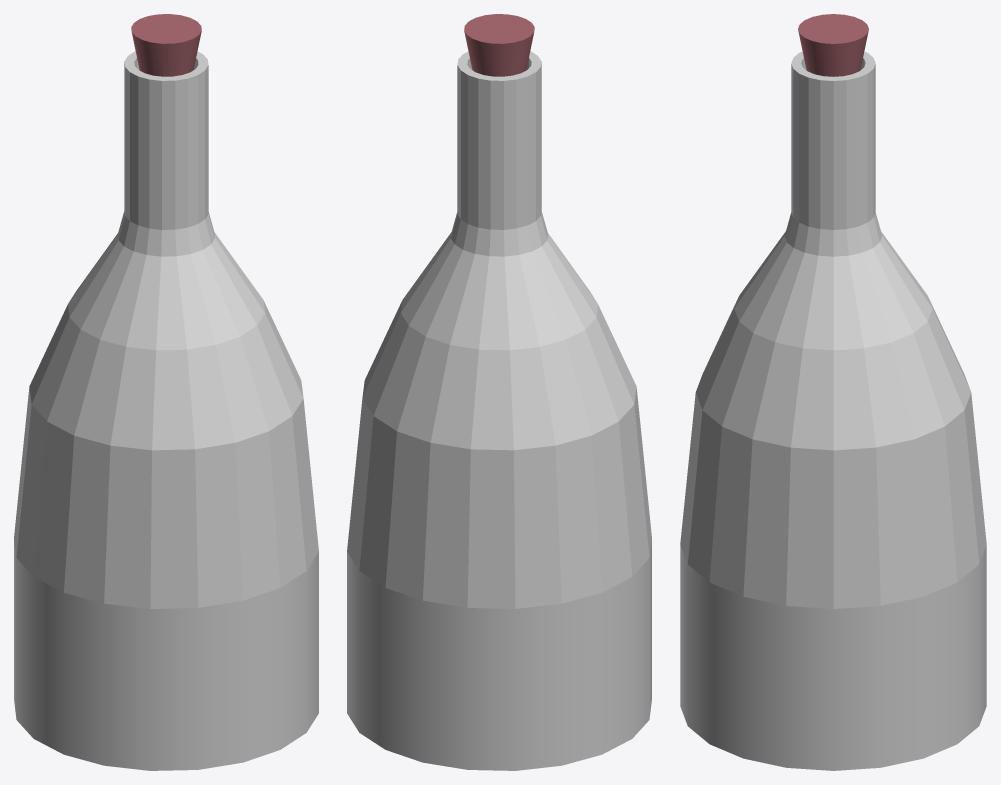
Rendered from Bottle.fbx.
3 renders of one model, left to right at view 1: azimuth 30°, elevation 25°; view 2: azimuth 150°, elevation 25°; view 3: azimuth 270°, elevation 25°, orthographic.
Parts seen in each view (by area): view 1: Bottle3; view 2: Bottle3; view 3: Bottle3.
Boxes of the visible parts, <box> form: Bottle3: <box>14,14,318,770</box>; Bottle3: <box>347,14,651,770</box>; Bottle3: <box>680,14,986,770</box>.
Size of the model in its own units: 33.62 by 81.97 by 33.62.
